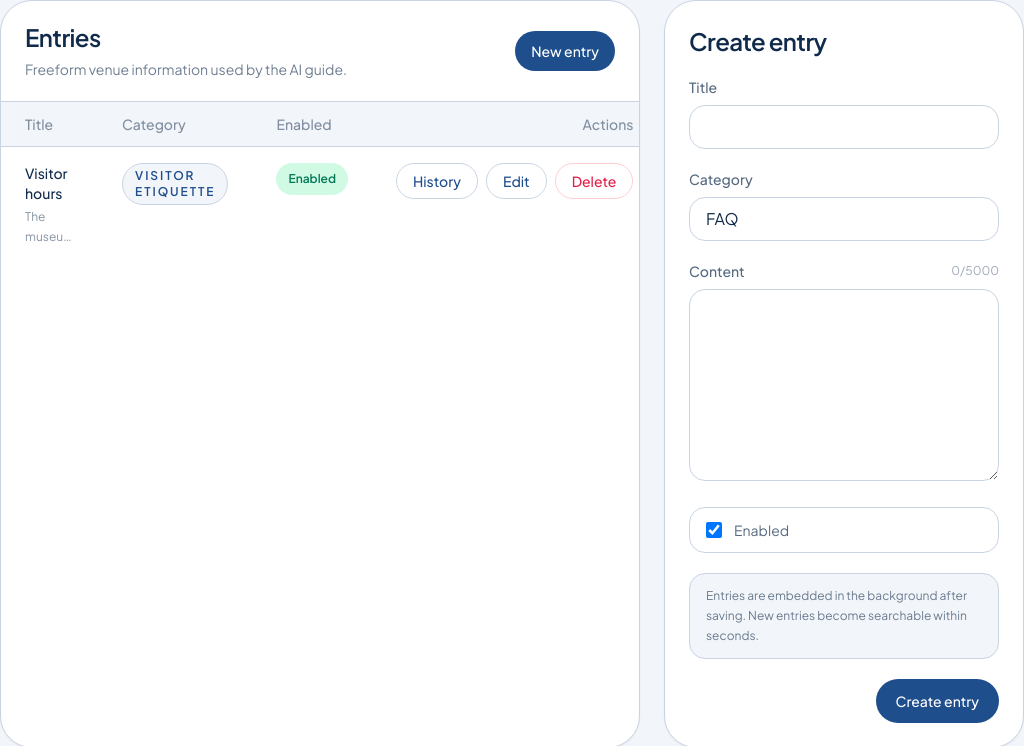
Scenario: KnowledgeManager › keeps edit mode and changed input when an update fails
Click the button with aria-label "Edit Visitor hours" at (516, 181), box [486,163,547,199]
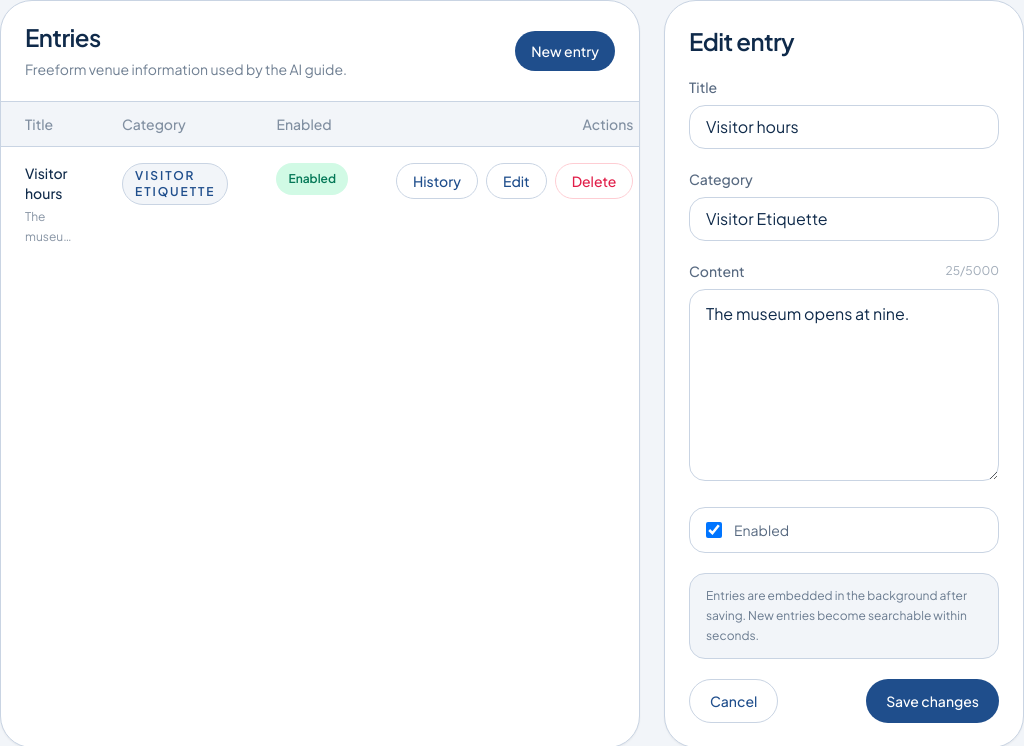
Replace the text in the field labelled "Title" with "Unsaved title" at (844, 127), box [689,105,999,149]
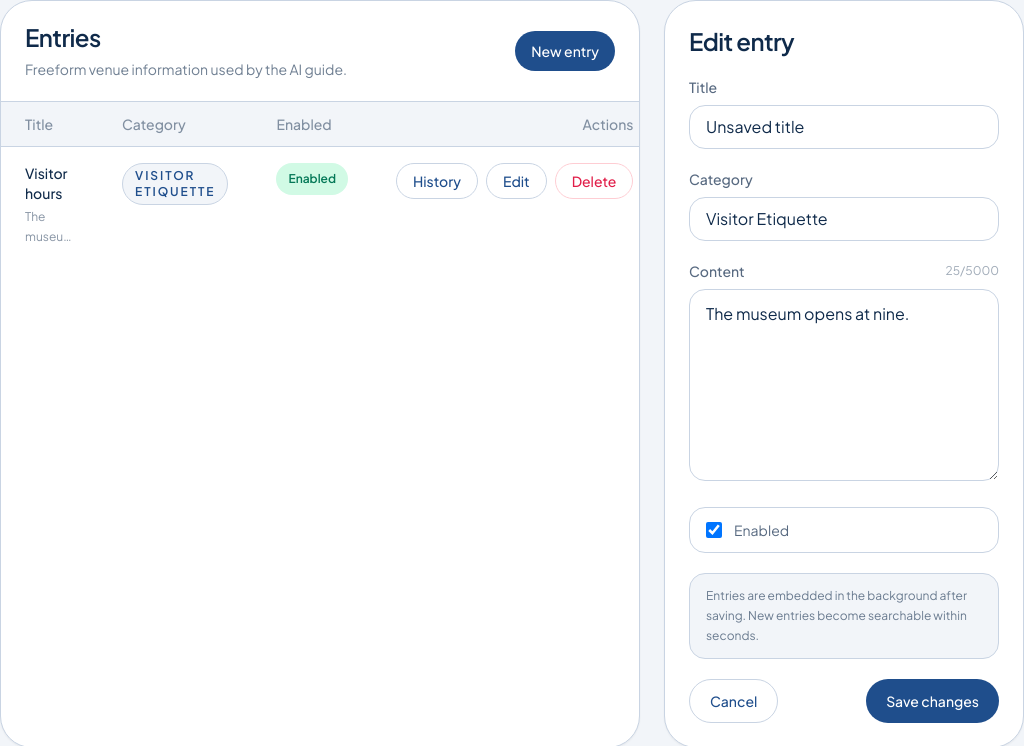
Click the button "Save changes" at (933, 701), box [866,679,999,723]
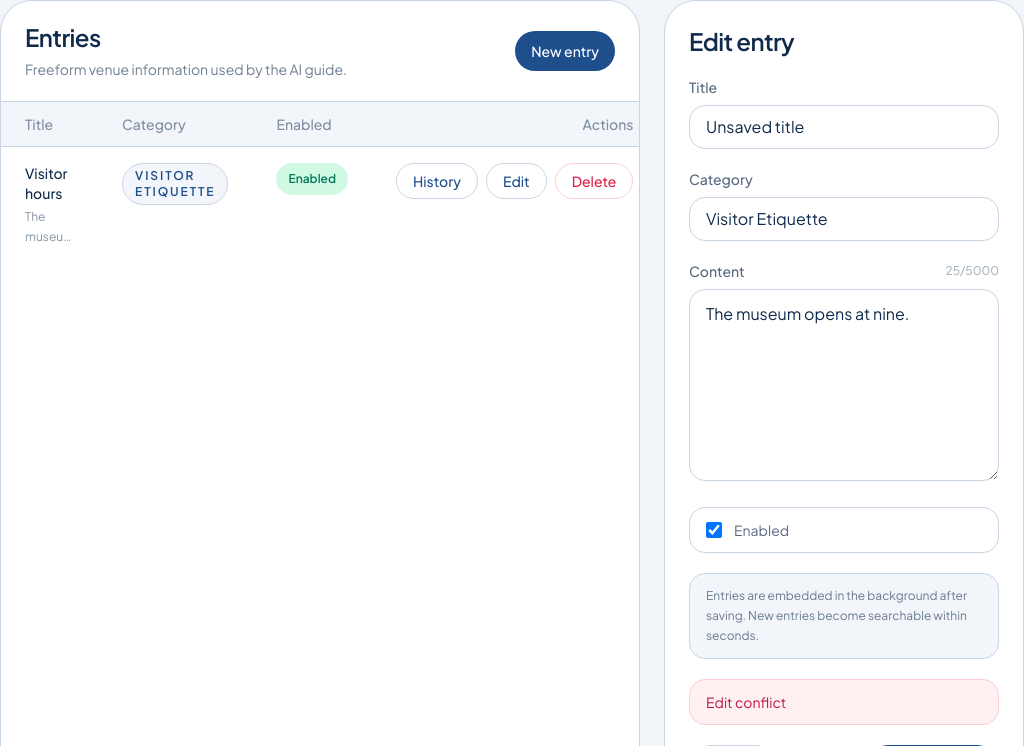
Result: the heading "Edit entry" is shown at [689,26,794,56]
Result: the message reads "Edit conflict" at [706,693,786,711]
